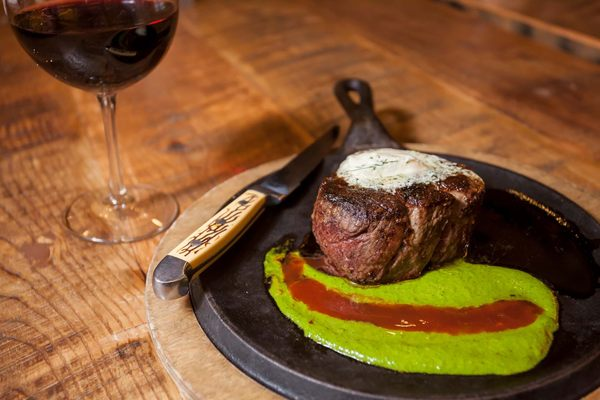sandwich: (150, 121, 342, 299)
